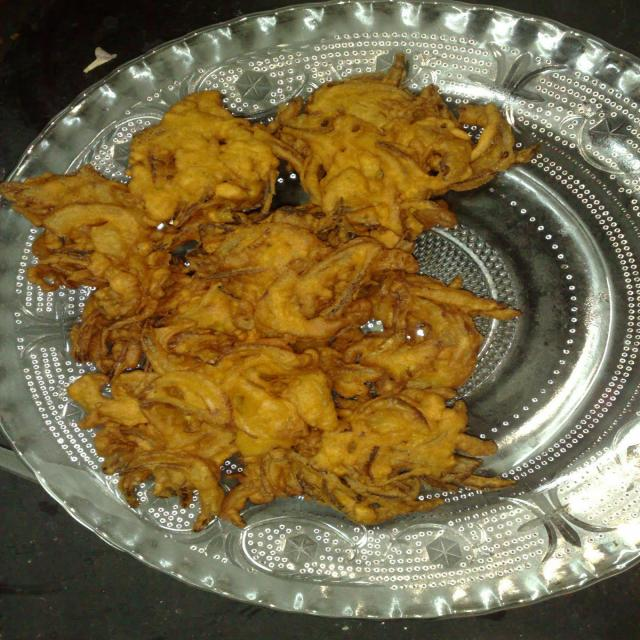Onion Pakora: (0, 53, 530, 520)
